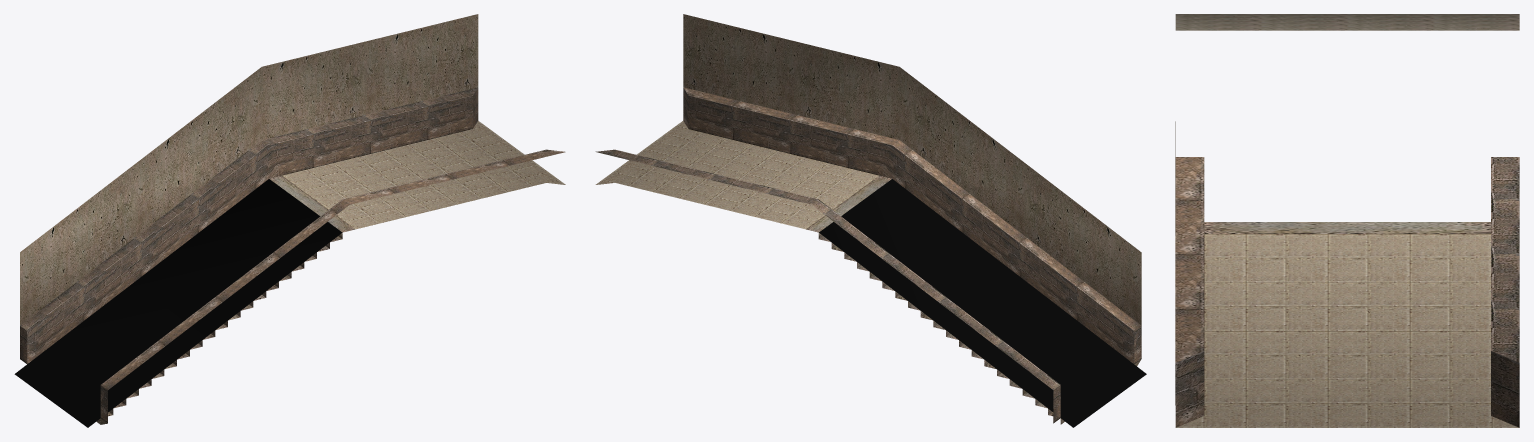
The model's file is M11Z1_Building02_A.glb.
The picture shows the model from 3 angles, left to right: view 1: azimuth 30°, elevation 25°; view 2: azimuth 150°, elevation 25°; view 3: azimuth 270°, elevation 25°; orthographic projection. The views are drawn at different scales.
Parts seen in each view (by area): view 1: M11Z1_BUILDING02_A; view 2: M11Z1_BUILDING02_A; view 3: M11Z1_BUILDING02_A.
Boxes of the visible parts, left/top/right/bottom form: M11Z1_BUILDING02_A: left=14, top=14, right=565, bottom=427; M11Z1_BUILDING02_A: left=595, top=14, right=1146, bottom=427; M11Z1_BUILDING02_A: left=1175, top=14, right=1519, bottom=427.
Bounding box in the file's own units: 18.5 × 9 × 6.01.
6 materials, 5 textured.
